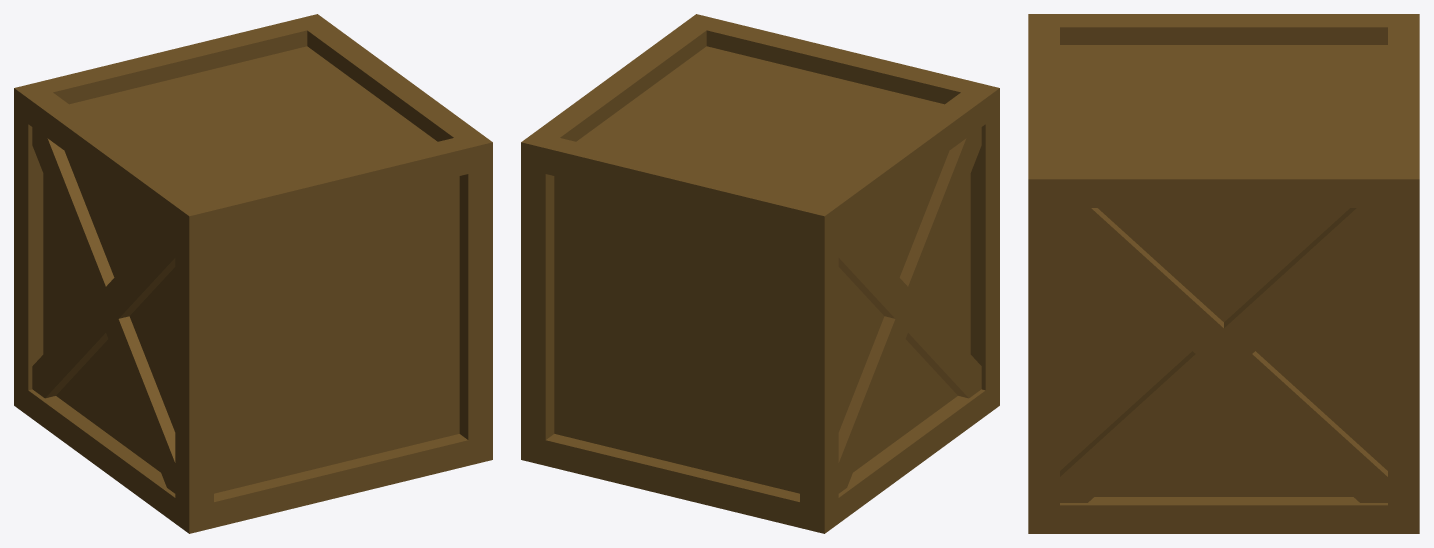
The picture shows the model from 3 angles, left to right: view 1: azimuth 30°, elevation 25°; view 2: azimuth 150°, elevation 25°; view 3: azimuth 270°, elevation 25°; orthographic projection. The views are drawn at different scales.
Parts seen in each view (by area): view 1: Cube.003; view 2: Cube.003; view 3: Cube.003.
Part boxes in pixels (x1,y1,x2,y2): Cube.003: (14, 14, 492, 533); Cube.003: (521, 14, 999, 533); Cube.003: (1028, 14, 1419, 533).
Size of the model in its own units: 200 by 200 by 200.
